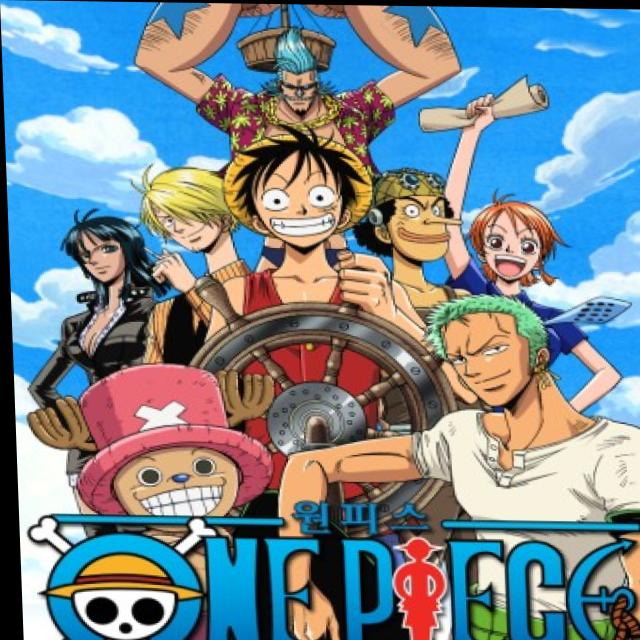Chyopa: (26, 349, 287, 534)
Franky: (236, 22, 366, 127)
Luffy: (209, 116, 392, 268)
Nami: (458, 175, 576, 286)
NicoRobin: (39, 207, 151, 289)
Sangdi: (121, 157, 242, 263)
Usopp: (358, 164, 477, 273)
Zoro: (414, 278, 581, 442)
